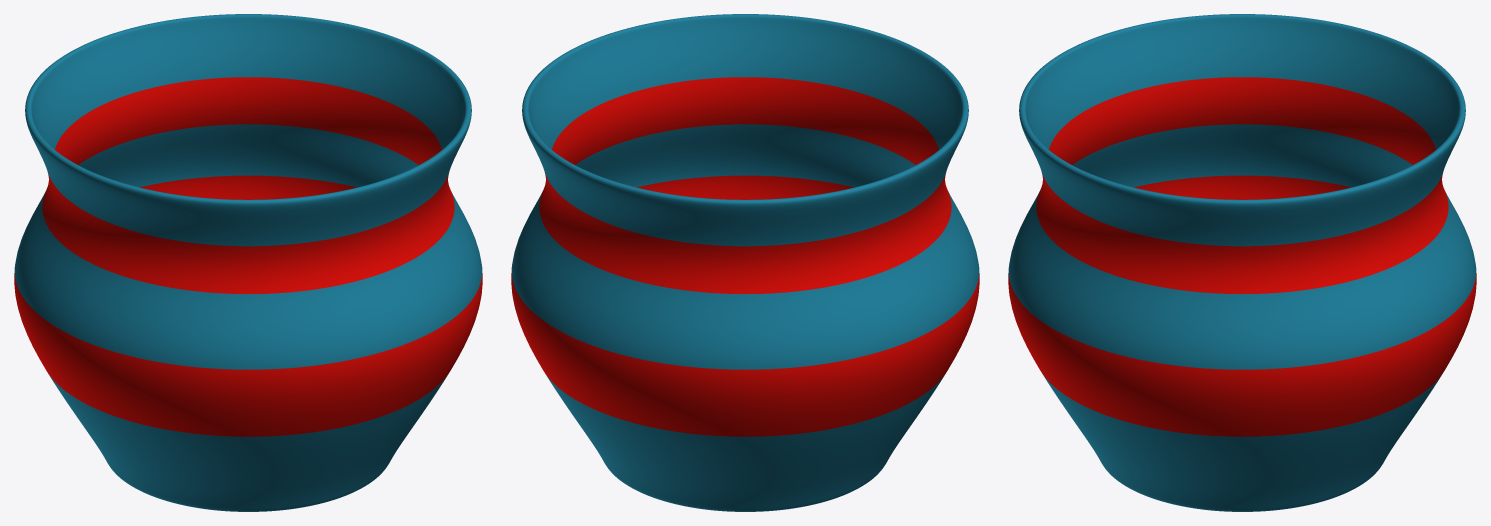
File: Chroma Vase.fbx
The picture shows the model from 3 angles, left to right: view 1: azimuth 30°, elevation 25°; view 2: azimuth 150°, elevation 25°; view 3: azimuth 270°, elevation 25°; orthographic projection.
Visible parts, largest first — view 1: EmptyVase; view 2: EmptyVase; view 3: EmptyVase.
Part boxes in pixels (left/top/right/bottom): EmptyVase: left=14, top=14, right=482, bottom=511; EmptyVase: left=511, top=14, right=979, bottom=511; EmptyVase: left=1008, top=14, right=1476, bottom=511.
Size of the model in its own units: 60.01 by 48.92 by 60.01.
